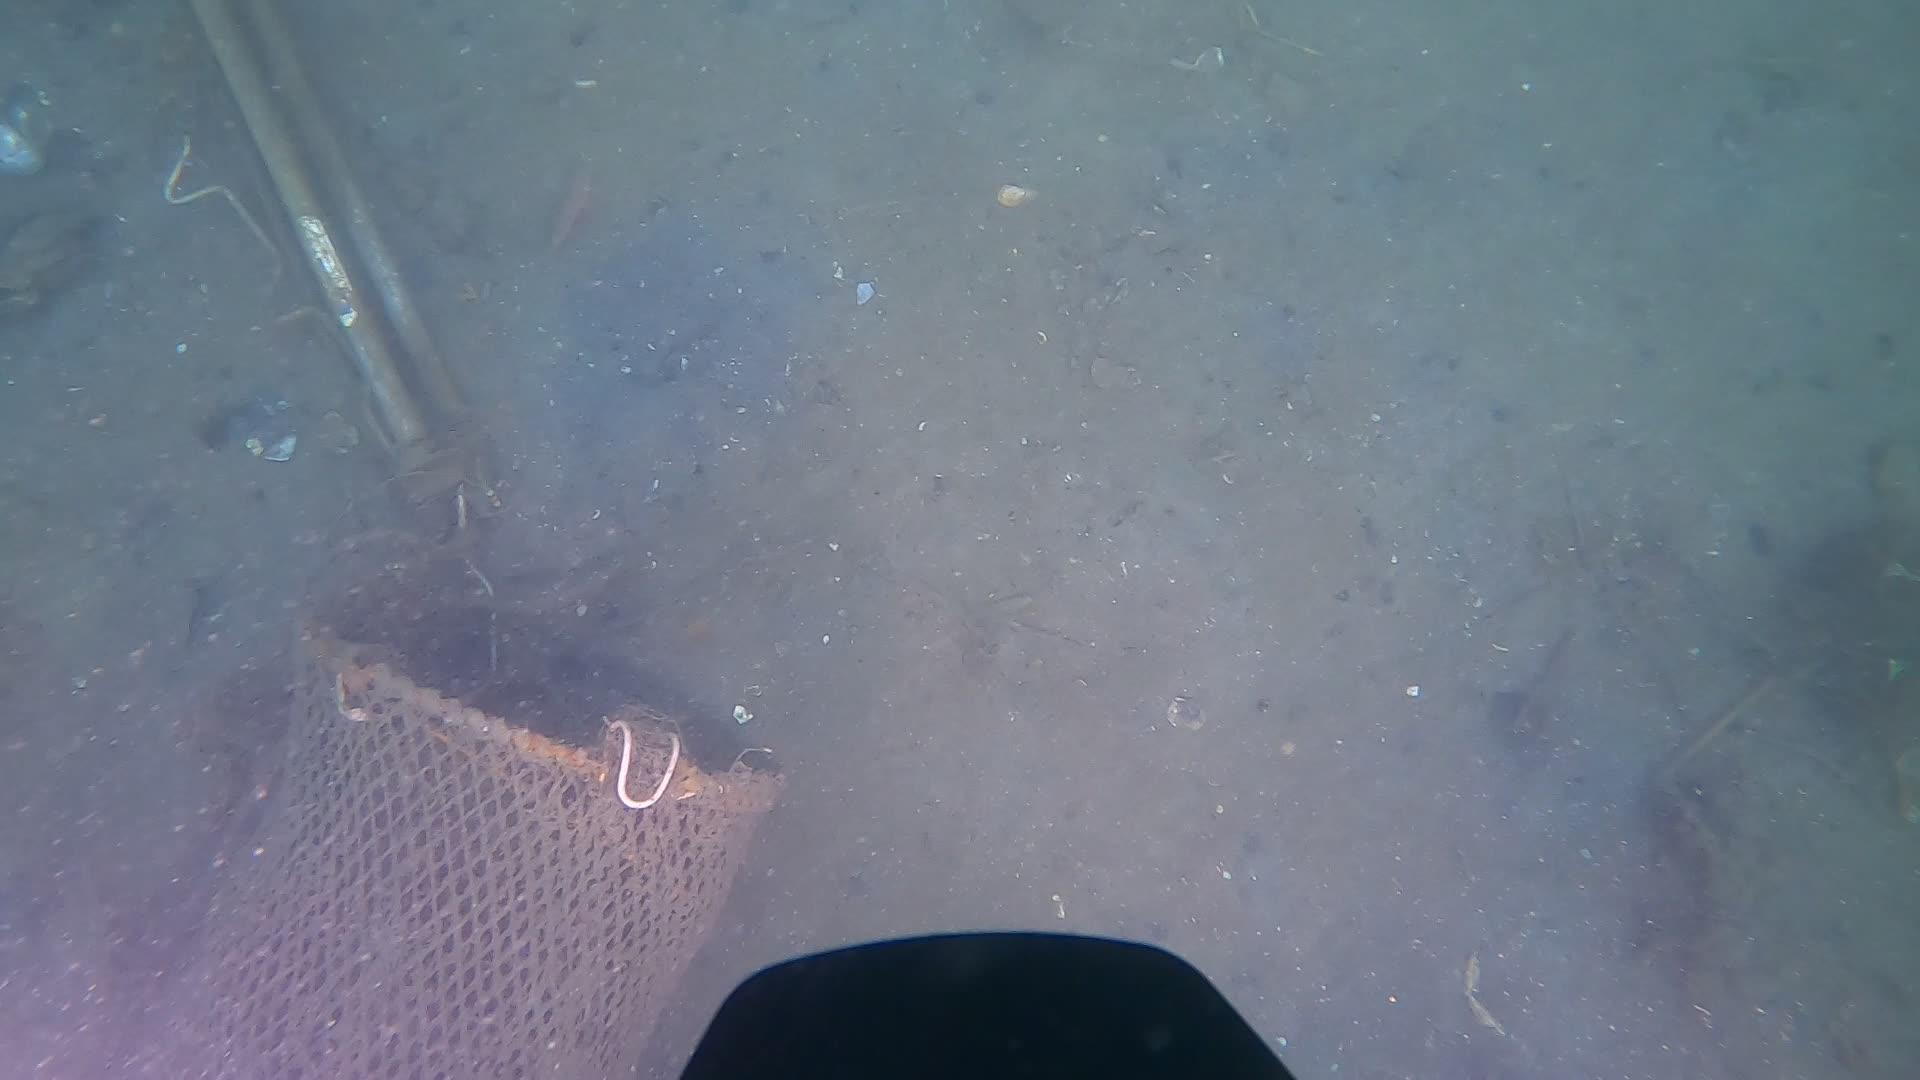spring fish trap: (112, 599, 791, 1080)
